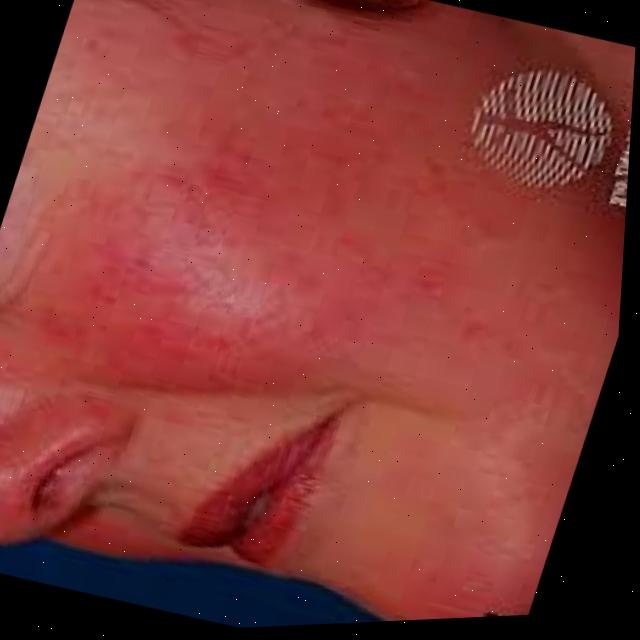Rosacea: (64, 36, 431, 388)
